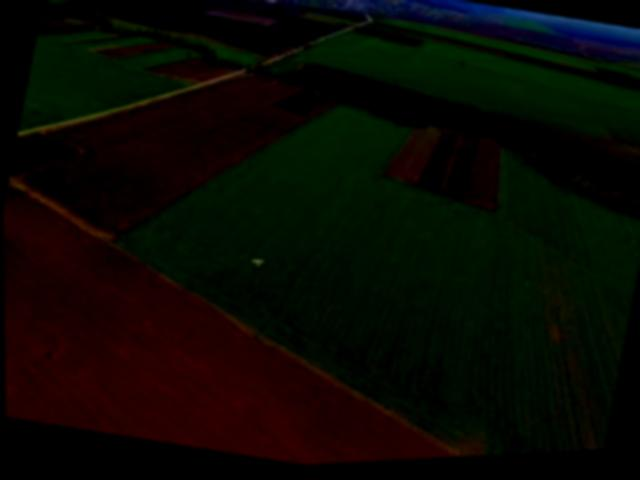uav: (244, 253, 267, 274)
